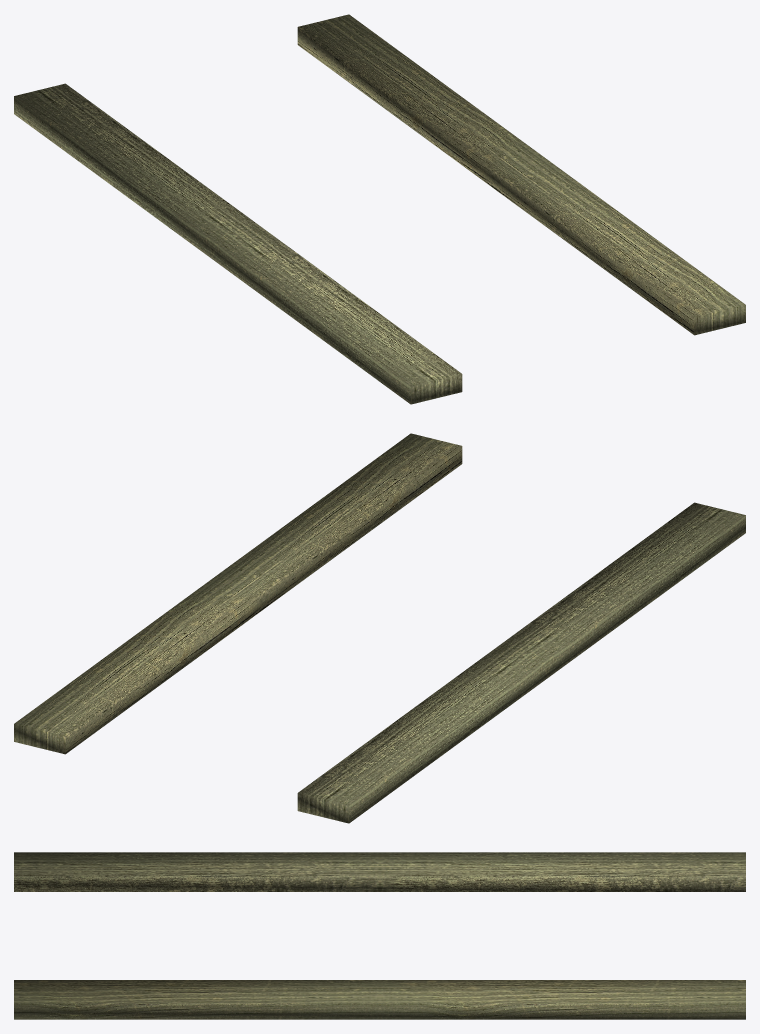
Rendered from boardwalk3.obj.
The picture shows the model from 3 angles, top to bottom: view 1: azimuth 30°, elevation 25°; view 2: azimuth 150°, elevation 25°; view 3: azimuth 270°, elevation 25°; orthographic projection. The views are drawn at different scales.
Visible parts, largest first — view 1: Default; view 2: Default; view 3: Default.
Boxes of the visible parts, <box> form: Default: <box>14,14,745,404</box>; Default: <box>14,433,745,823</box>; Default: <box>14,852,745,1019</box>.
Bounding box in the file's own units: 1.95 × 0.1 × 4.
Materials: 1 (1 with a texture image).
